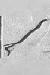G36: (5, 1, 45, 75)
